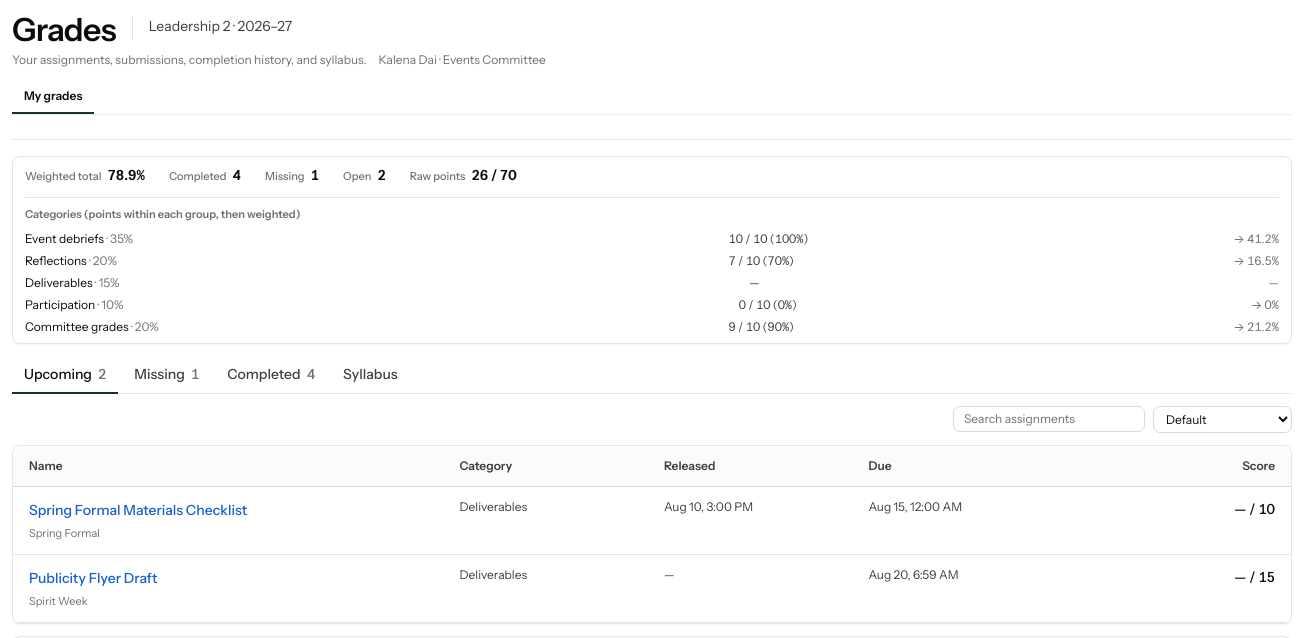
Test: GradesPage › opens the syllabus with attendance, levels, and site manual sections
The width and height of the screenshot is (1304, 638).
Click the tab "Syllabus" at (370, 374), box [331, 356, 409, 394]
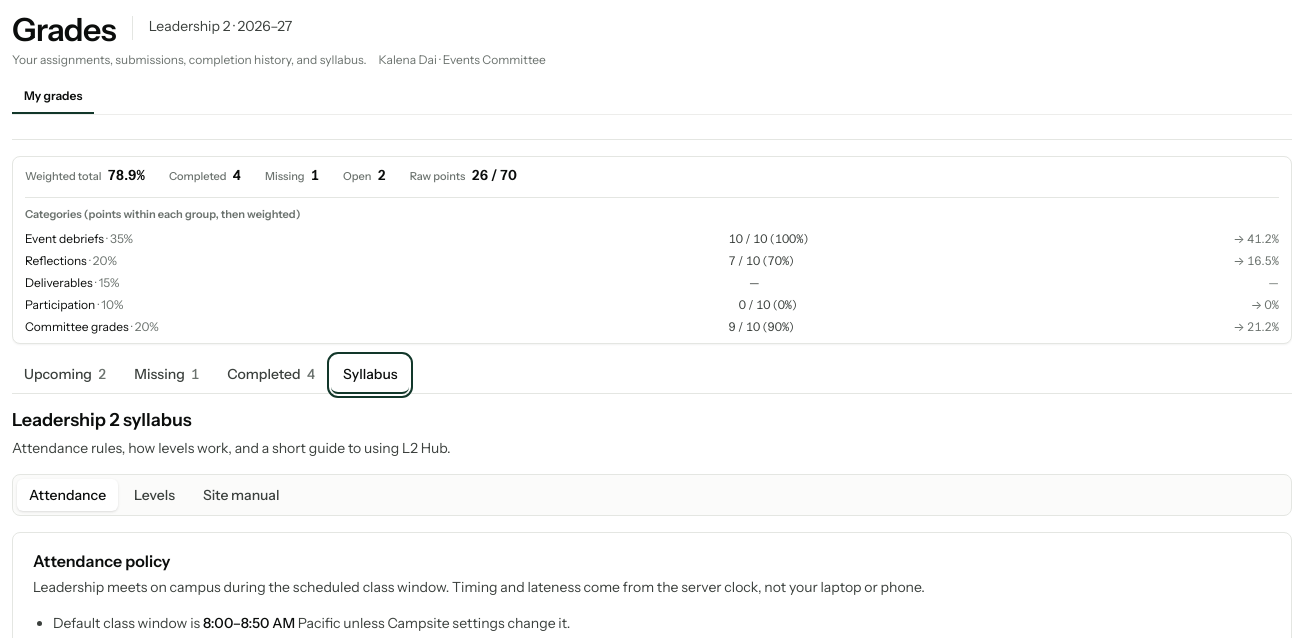
Now the heading "Leadership 2 syllabus" is shown, box [12, 408, 192, 430]
Now the tab "Attendance" is shown, box [17, 478, 118, 510]
Now the heading "Attendance policy" is shown, box [33, 550, 170, 570]
Click the tab "Levels" at (154, 494), box [122, 478, 187, 510]
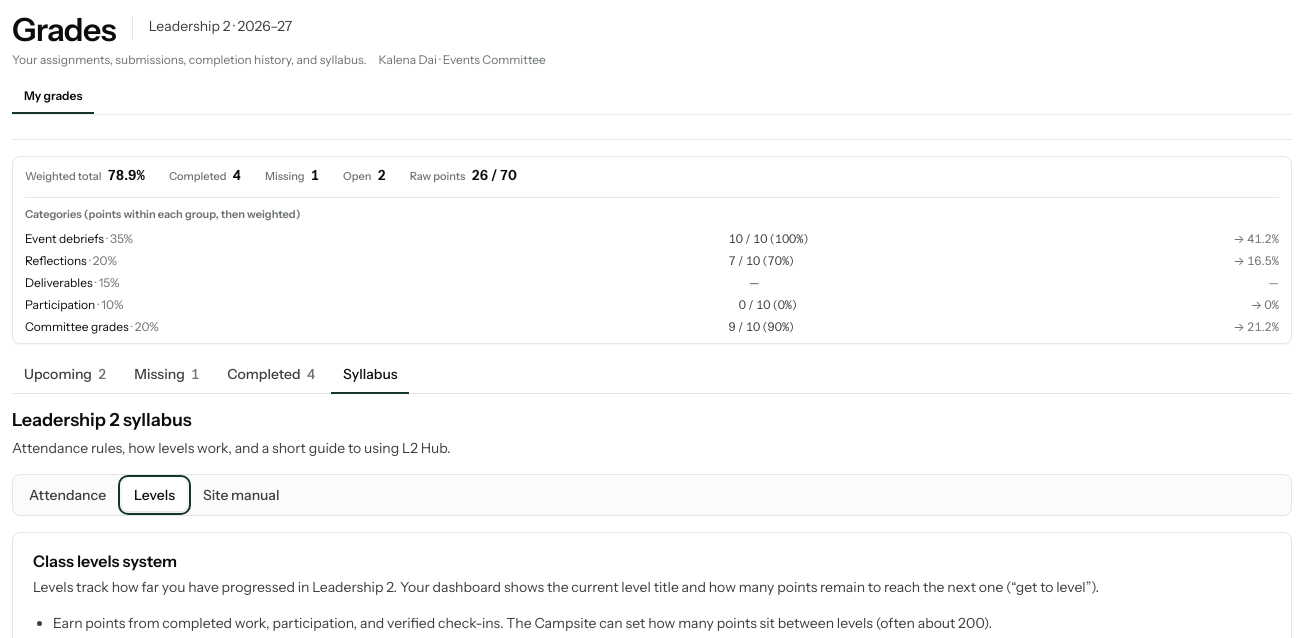
Now the heading "Class levels system" is shown, box [33, 550, 177, 570]
Now the text "get to level" is shown, box [33, 578, 1099, 596]
Click the tab "Site manual" at (241, 494), box [191, 478, 292, 510]
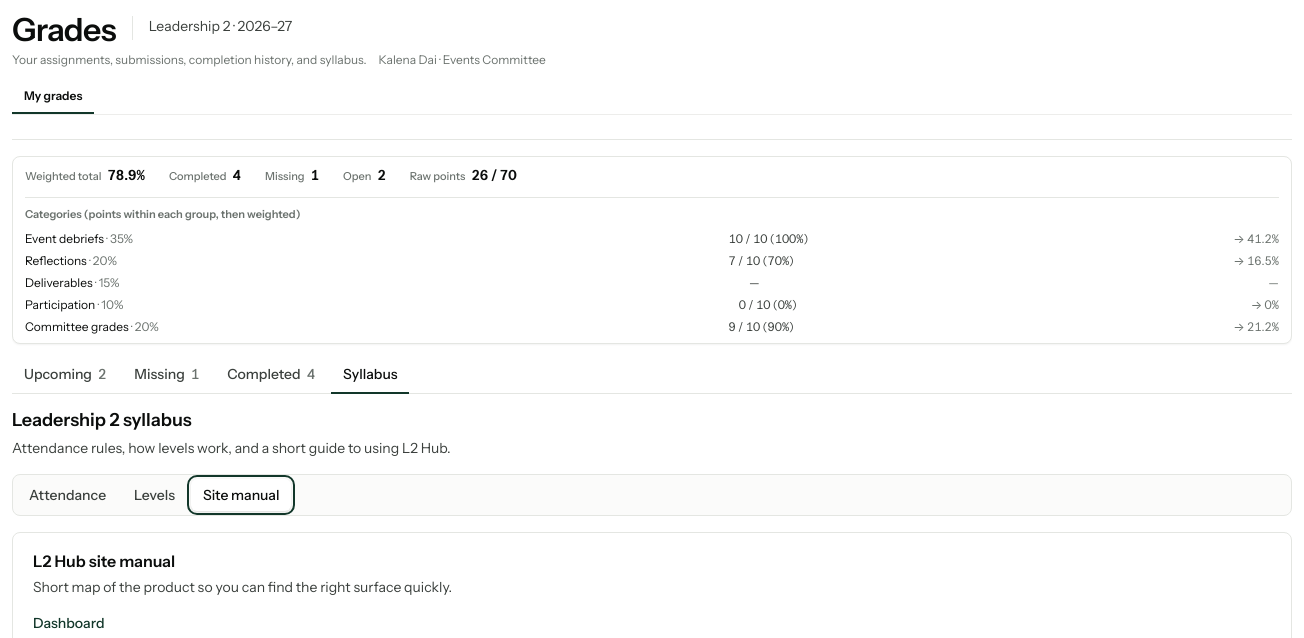
Now the heading "L2 Hub site manual" is shown, box [33, 550, 175, 570]
